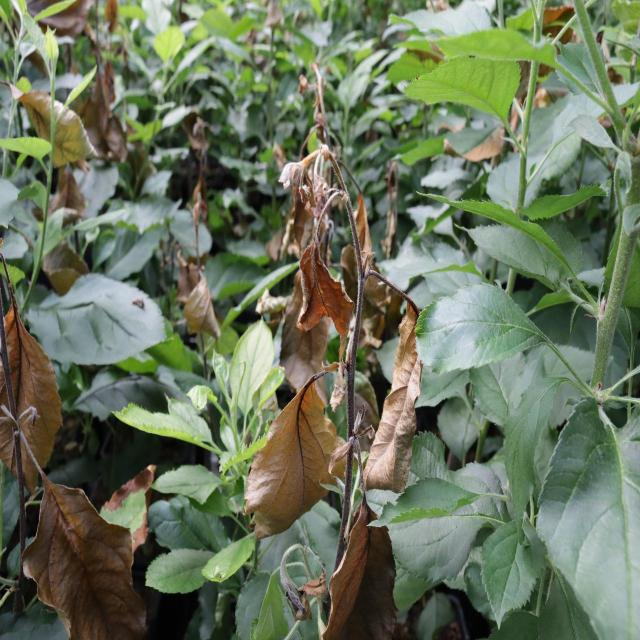-FireBlight-: (241, 56, 443, 640), (0, 236, 160, 640), (13, 0, 135, 290), (159, 109, 219, 340)
